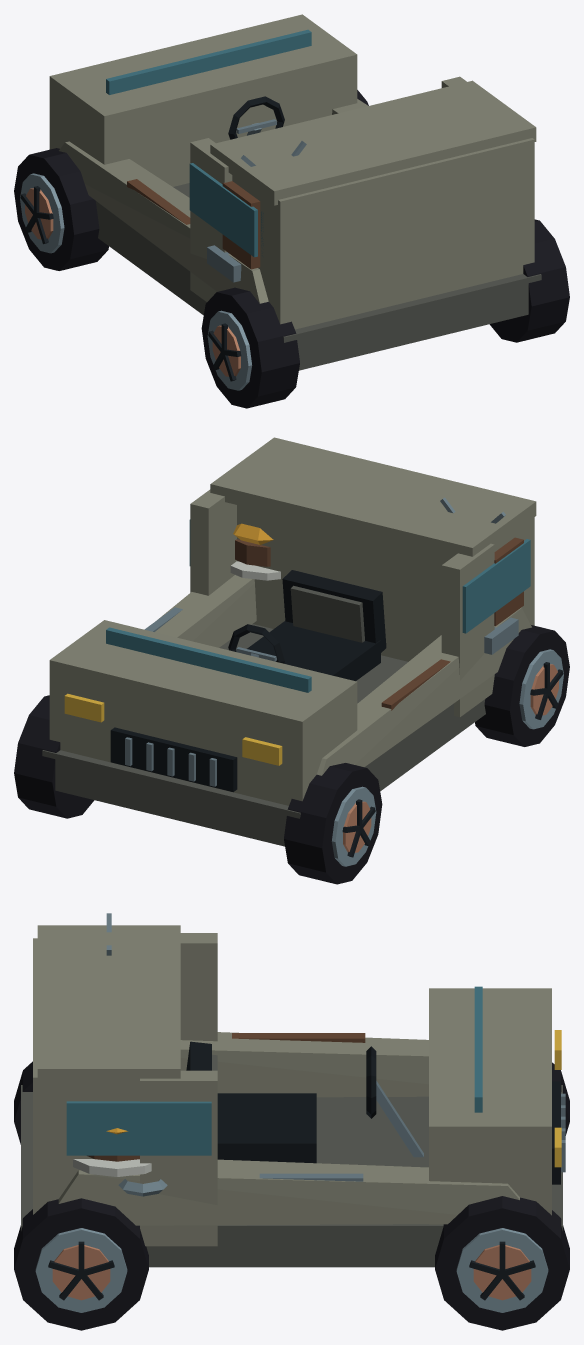
The model's file is kart.glb.
The picture shows the model from 3 angles, top to bottom: view 1: azimuth 30°, elevation 25°; view 2: azimuth 150°, elevation 25°; view 3: azimuth 270°, elevation 25°; orthographic projection. The views are drawn at different scales.
Parts seen in each view (by area): view 1: identity-van-van-utility-body, wheel-rear-left, wheel-front-left, wheel-rear-right, identity-van-motif-tools, identity-van-motif-television, identity-van-driver-cockpit; view 2: identity-van-van-utility-body, identity-van-driver-cockpit, wheel-front-left, wheel-rear-left, wheel-front-right, identity-van-motif-food, identity-van-motif-tools, identity-van-motif-television; view 3: identity-van-van-utility-body, wheel-front-right, wheel-rear-right, identity-van-driver-cockpit, identity-van-motif-tools, identity-van-motif-food, wheel-rear-left.
Boxes of the visible parts, x1,y1,x2,y2 form: identity-van-van-utility-body: [49, 14, 541, 370]; wheel-rear-left: [201, 287, 299, 408]; wheel-front-left: [14, 148, 108, 270]; wheel-rear-right: [489, 219, 569, 342]; identity-van-motif-tools: [127, 179, 241, 282]; identity-van-motif-television: [222, 141, 306, 269]; identity-van-driver-cockpit: [228, 96, 284, 139]; identity-van-van-utility-body: [42, 437, 536, 846]; identity-van-driver-cockpit: [228, 570, 386, 681]; wheel-front-left: [284, 763, 382, 884]; wheel-rear-left: [475, 625, 569, 746]; wheel-front-right: [14, 695, 94, 818]; identity-van-motif-food: [230, 523, 280, 580]; identity-van-motif-tools: [144, 607, 518, 710]; identity-van-motif-television: [440, 497, 523, 626]; identity-van-van-utility-body: [21, 925, 565, 1267]; wheel-front-right: [435, 1196, 569, 1330]; wheel-rear-right: [14, 1198, 148, 1330]; identity-van-driver-cockpit: [186, 1041, 423, 1163]; identity-van-motif-tools: [118, 1033, 365, 1196]; identity-van-motif-food: [73, 1128, 151, 1176]; wheel-rear-left: [14, 1061, 32, 1144].
Size of the model in its own units: 2.13 by 1.46 by 2.8.
